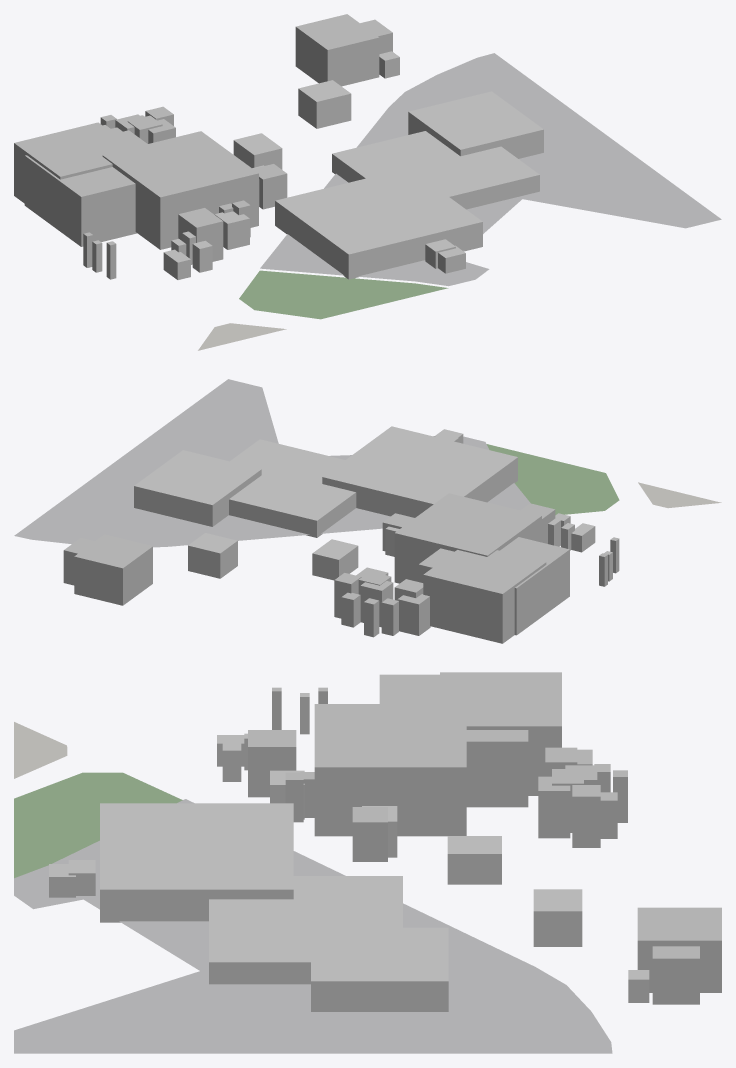
Rendered from 131_86_mid.glb.
3 renders of one model, top to bottom at view 1: azimuth 30°, elevation 25°; view 2: azimuth 150°, elevation 25°; view 3: azimuth 270°, elevation 25°, orthographic. The views are drawn at different scales.
Size of the model in its own units: 468 by 48.1 by 416.
